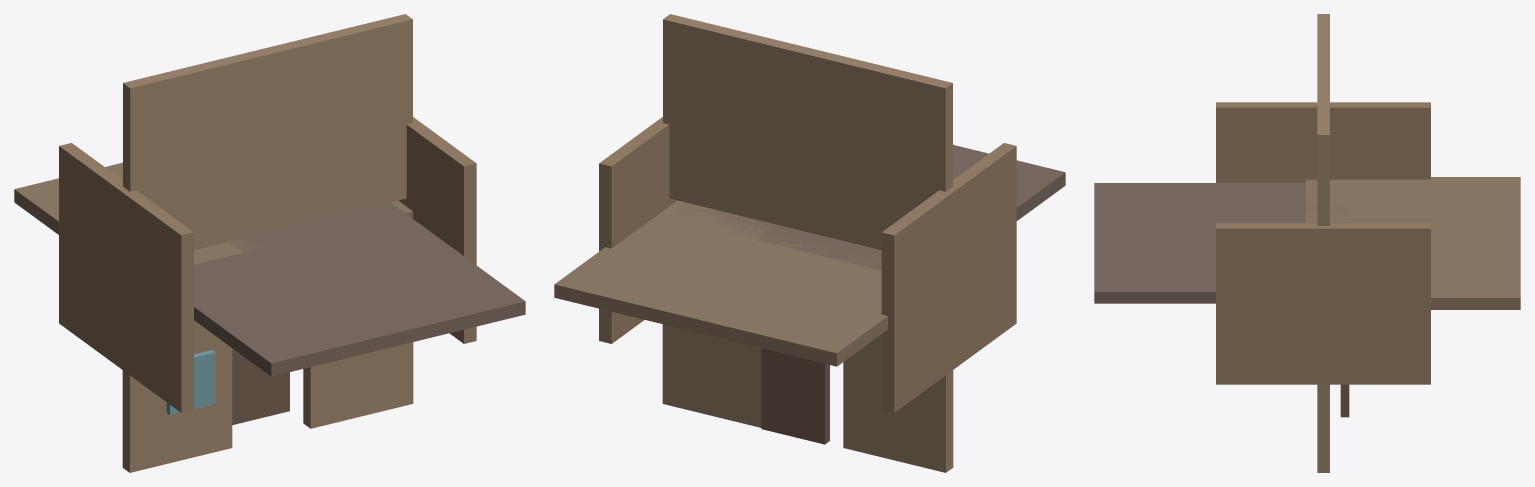
Rendered from old_tropical_cabin.glb.
The picture shows the model from 3 angles, left to right: view 1: azimuth 30°, elevation 25°; view 2: azimuth 150°, elevation 25°; view 3: azimuth 270°, elevation 25°; orthographic projection. The views are drawn at different scales.
Parts seen in each view (by area): view 1: back, sideL, roof2, roof1, frontL, sideR, frontR, door, floor, window; view 2: back, floor, sideL, frontL, frontR, sideR, door, roof1, roof2; view 3: sideR, floor, sideL, roof1, roof2, back, frontR.
Boxes of the visible parts, <box> form: back: <box>123,14,412,249</box>; sideL: <box>59,143,193,412</box>; roof2: <box>228,202,525,342</box>; roof1: <box>194,253,433,376</box>; frontL: <box>122,320,232,472</box>; sideR: <box>398,117,476,343</box>; frontR: <box>303,342,413,428</box>; door: <box>232,348,289,424</box>; floor: <box>14,162,412,264</box>; window: <box>166,350,215,414</box>; back: <box>663,14,952,249</box>; floor: <box>554,200,887,366</box>; sideL: <box>881,143,1016,412</box>; frontL: <box>843,334,953,472</box>; frontR: <box>662,324,761,427</box>; sideR: <box>599,117,677,343</box>; door: <box>761,348,829,444</box>; roof1: <box>756,145,1065,270</box>; roof2: <box>669,145,964,247</box>; sideR: <box>1216,223,1430,384</box>; floor: <box>1305,177,1520,309</box>; sideL: <box>1216,102,1430,182</box>; roof1: <box>1094,183,1352,242</box>; roof2: <box>1094,222,1349,303</box>; back: <box>1317,14,1329,225</box>; frontR: <box>1317,384,1329,472</box>.
Bounding box in the file's own units: 4.18 × 5.2 × 5.95.
